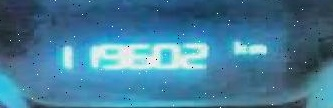0: (151, 42, 178, 69)
1: (58, 43, 71, 69), (87, 42, 96, 67)
2: (180, 40, 209, 69)
6: (124, 42, 149, 71)
9: (98, 40, 124, 69)
X: (231, 39, 247, 53), (247, 42, 265, 53)
